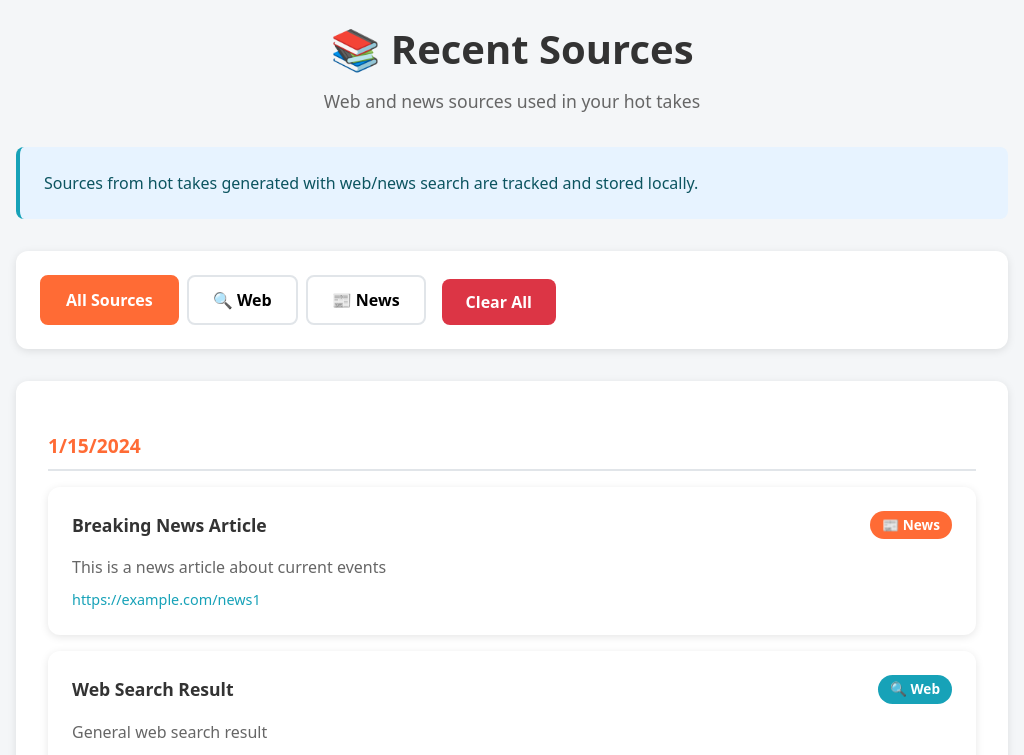
Test: SourcesPage › clears all sources when clear all is clicked and confirmed
Click the button "Clear All" at (499,302), box [442,279,556,325]
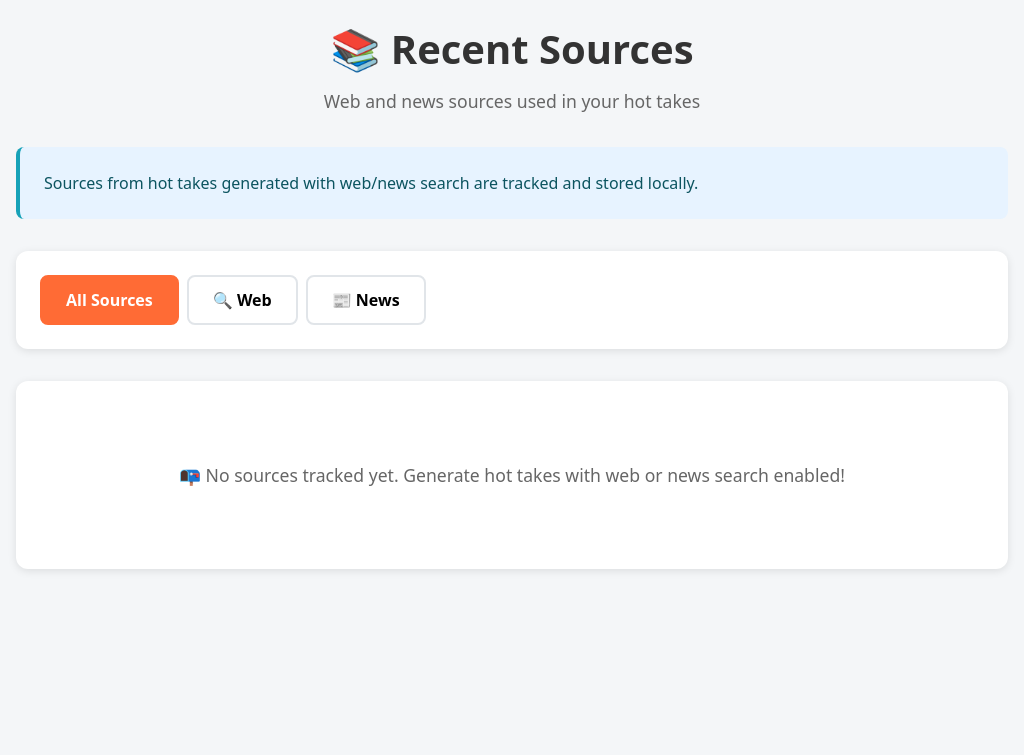
Result: the text "📭 No sources tracked yet" is shown at [179,463,845,487]
